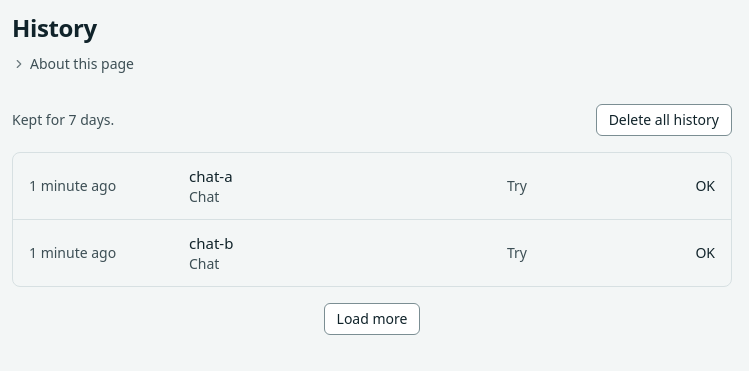
History list › lists the person's own requests newest first and pages with the server cursor
The image size is (749, 371).
Expected: the text "Try" is shown 2 times, [507,176,527,195]; [507,243,527,262]
Expected: the text "OK" is shown 2 times, [695,176,715,195]; [695,243,715,262]
What coordinates should you click on to do the following:
click the button "Load more"
I would click on:
 (372, 319)
Its box is [324,303,420,335].
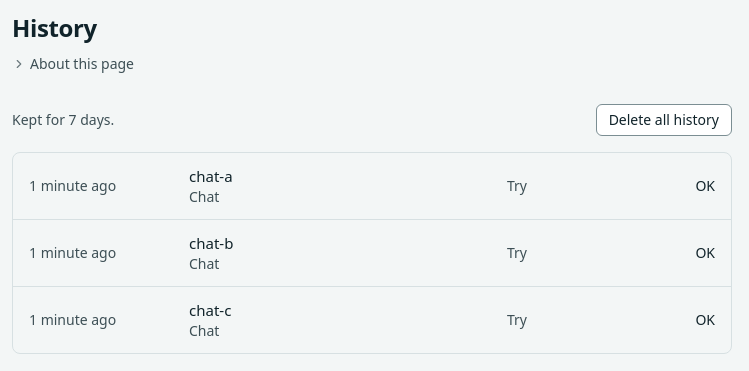
Expected: the button "1 minute ago chat-c Chat Try OK" is shown, [13,287,731,353]
Expected: the button "Load more" is gone
